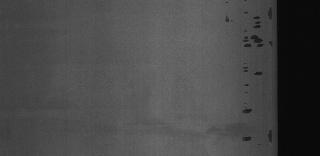oil spot: (223, 7, 275, 54), (242, 67, 266, 83), (237, 99, 256, 119), (262, 124, 274, 144), (243, 130, 255, 146)
